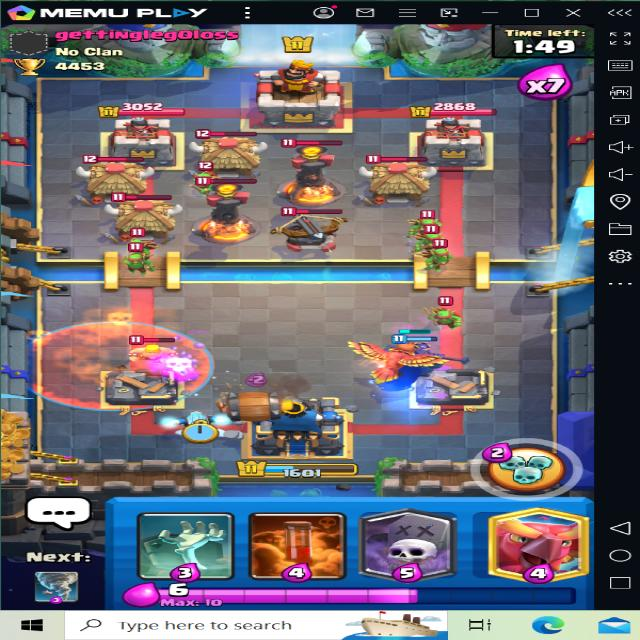barbarian: (134, 337, 178, 368)
goblin-hut: (102, 188, 185, 240), (187, 126, 266, 178), (363, 152, 434, 204), (80, 155, 156, 201)
inferno-tower: (188, 172, 274, 250), (278, 136, 342, 201)
spear-goblin: (423, 296, 459, 330), (119, 250, 156, 272), (414, 209, 444, 234), (416, 222, 443, 249), (121, 230, 159, 248), (426, 243, 454, 266), (189, 169, 218, 188)
x-bow: (269, 200, 348, 251)
